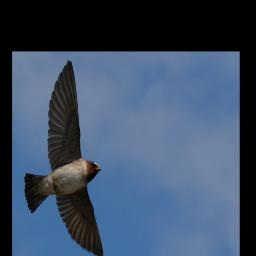Swallow: (23, 59, 104, 256)
